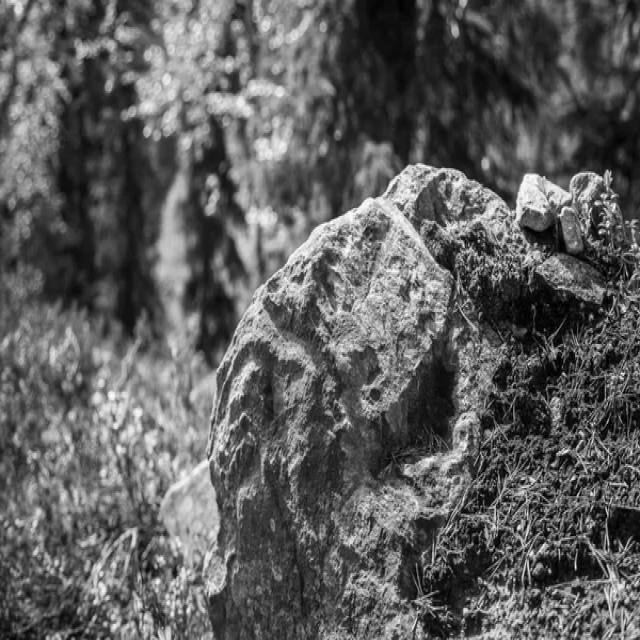Stone: (204, 195, 497, 638), (384, 161, 619, 318)
